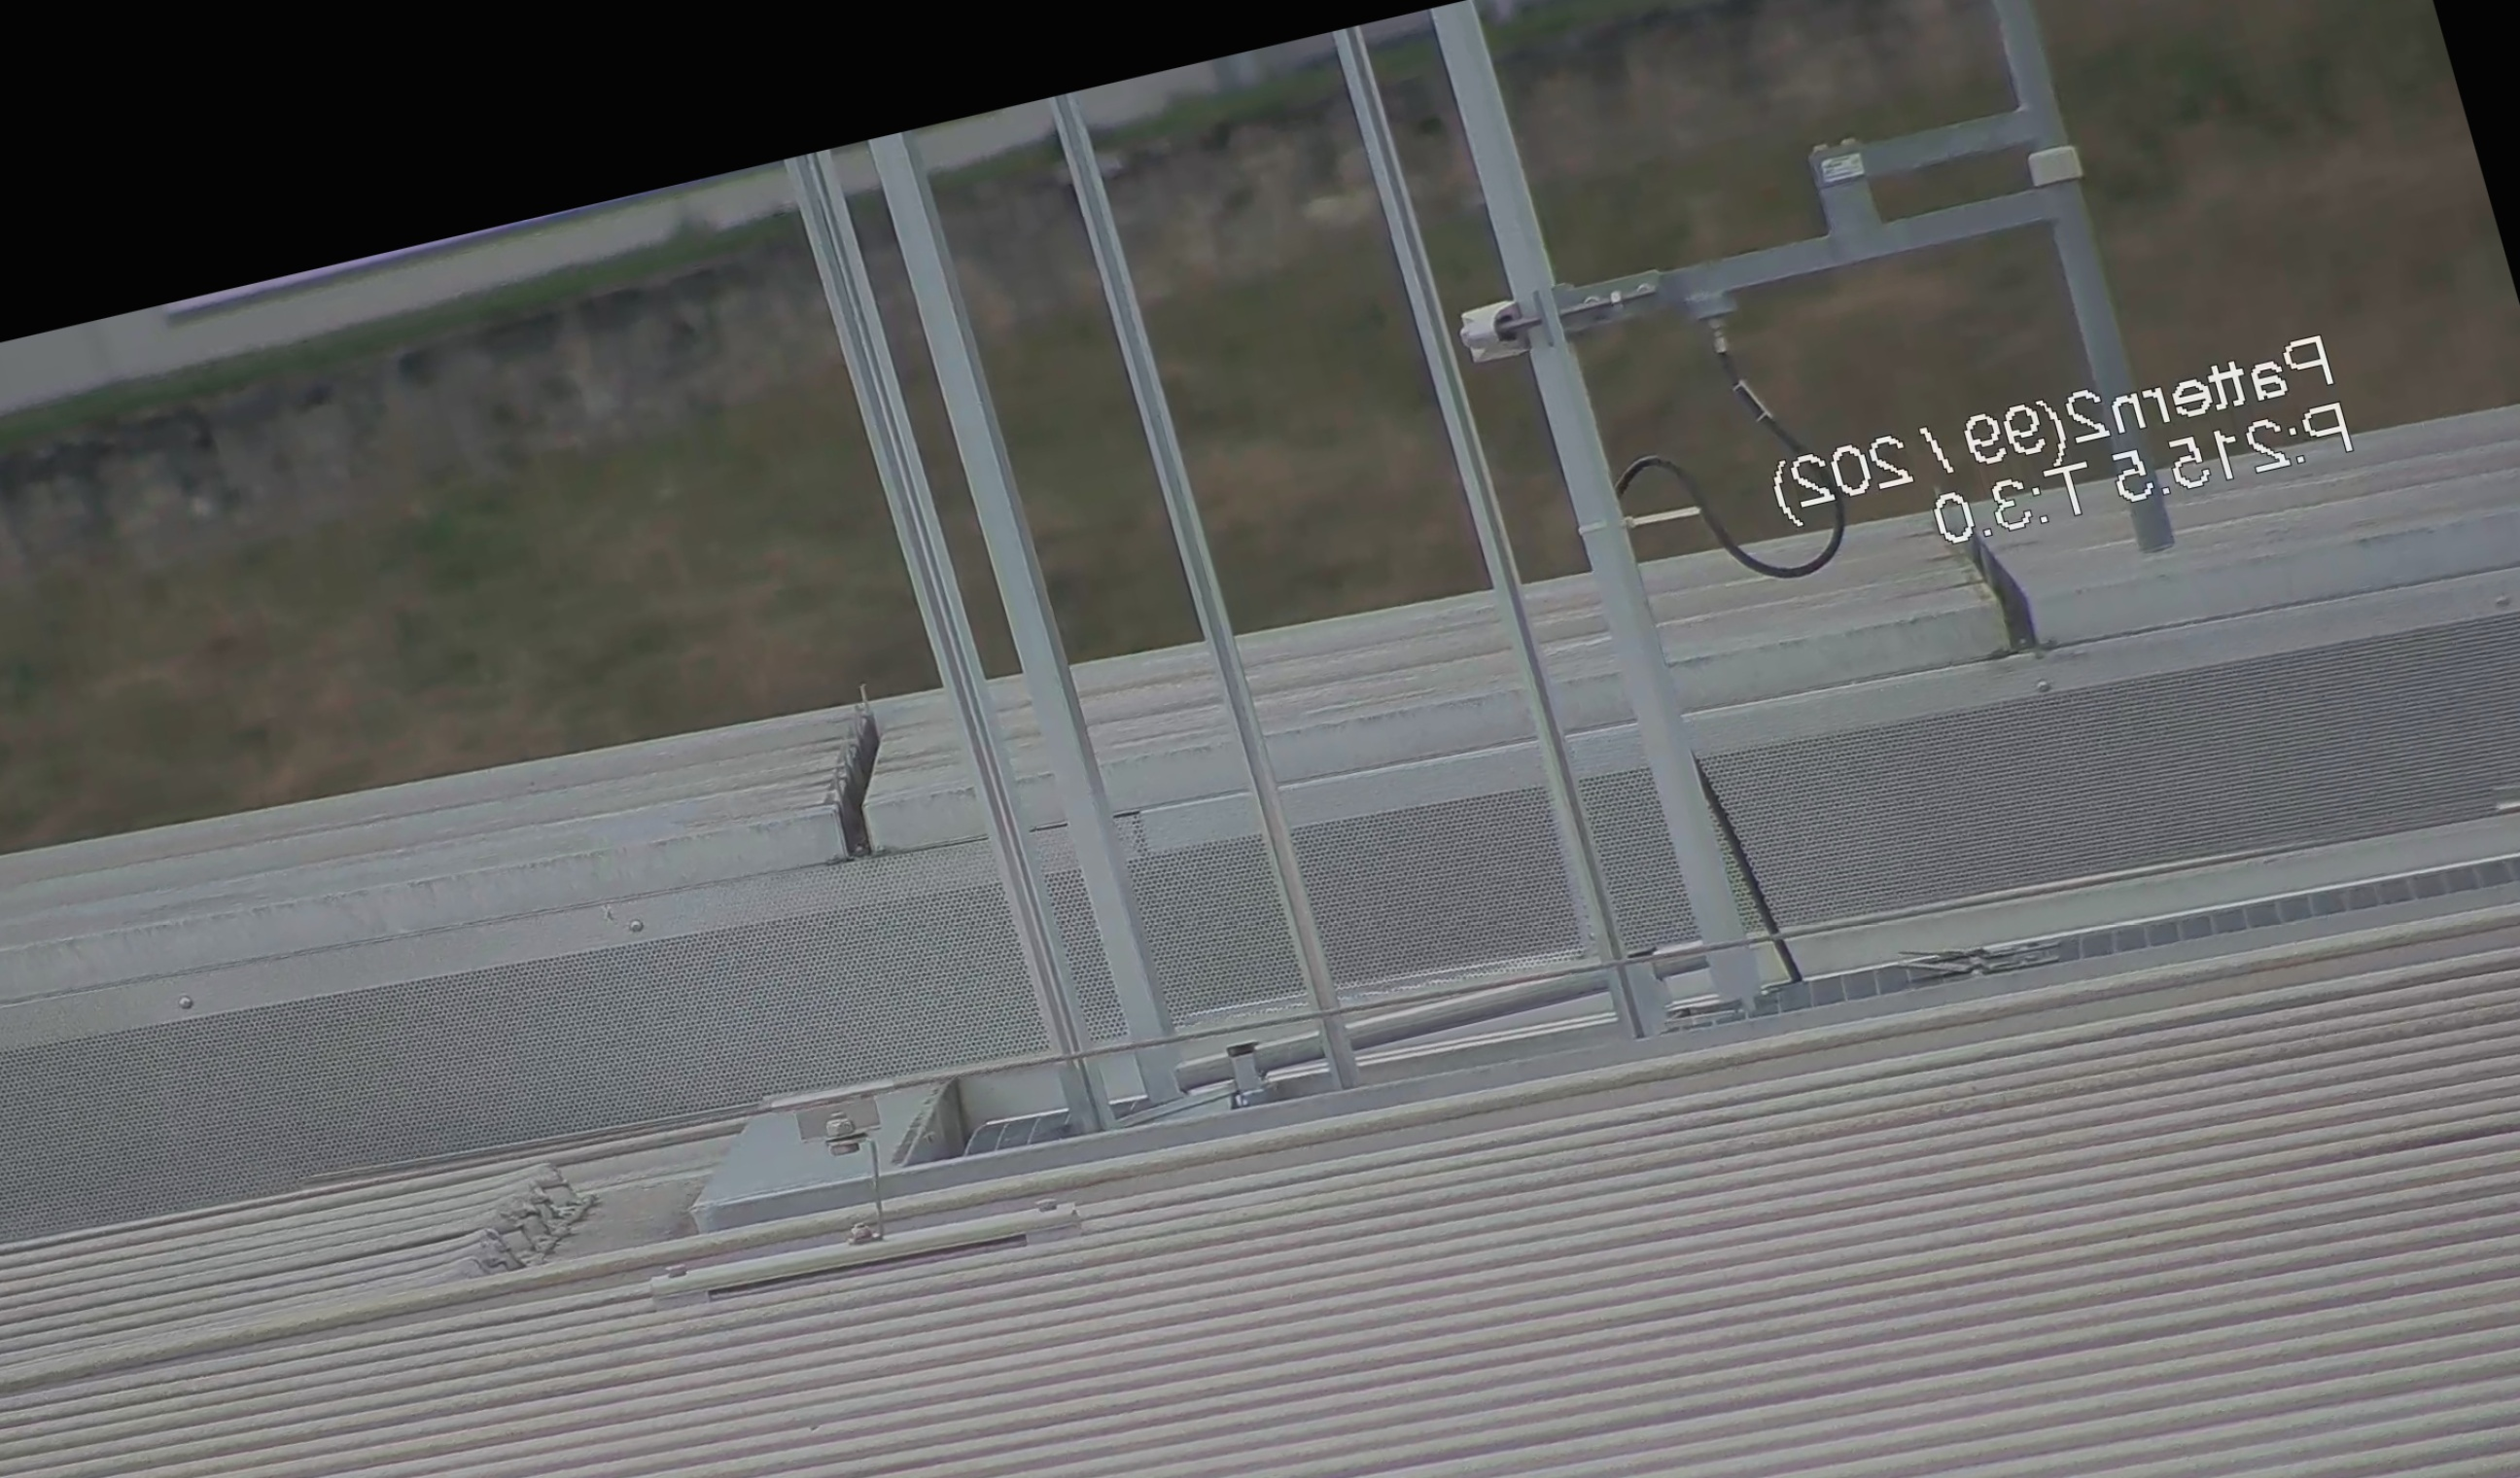Other: (768, 676, 936, 871)
